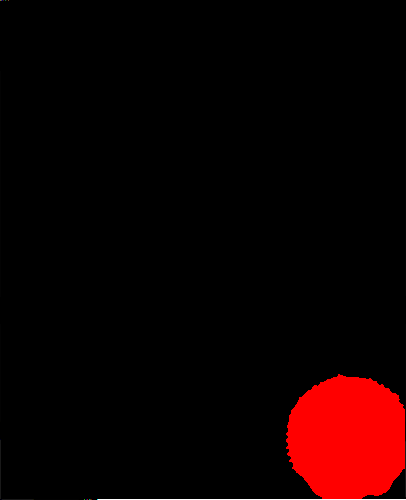stamp: (286, 375, 406, 499)
